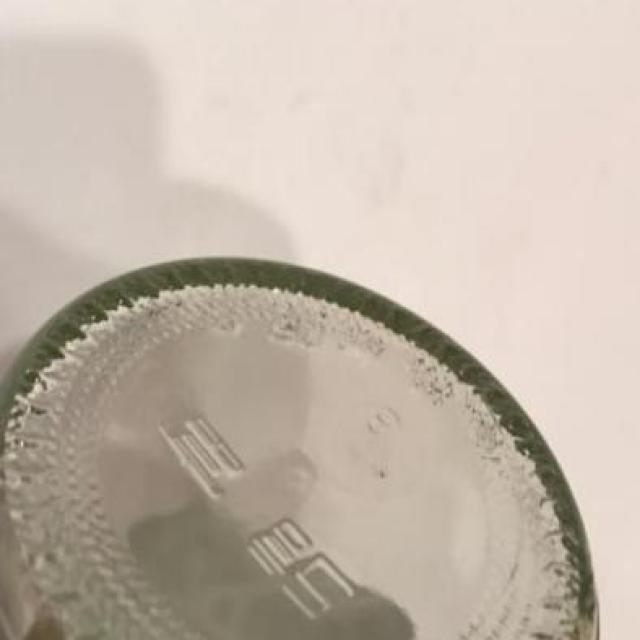kaca: (0, 255, 601, 640)
